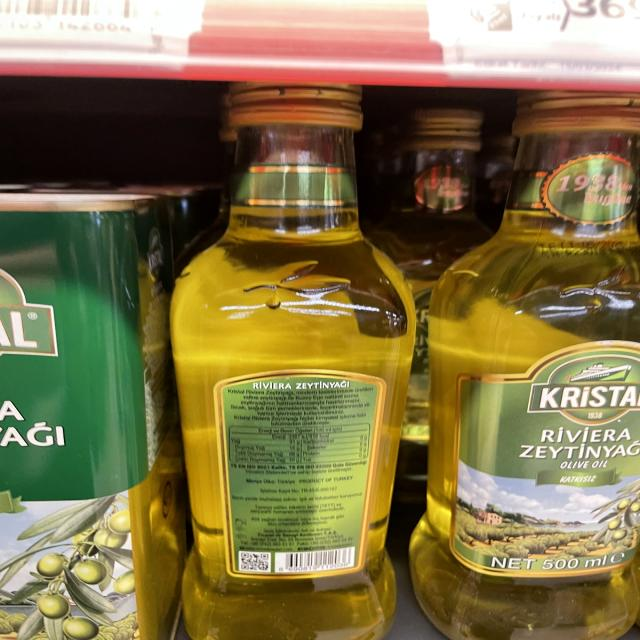olive oil: (161, 88, 412, 640), (421, 87, 640, 640)
